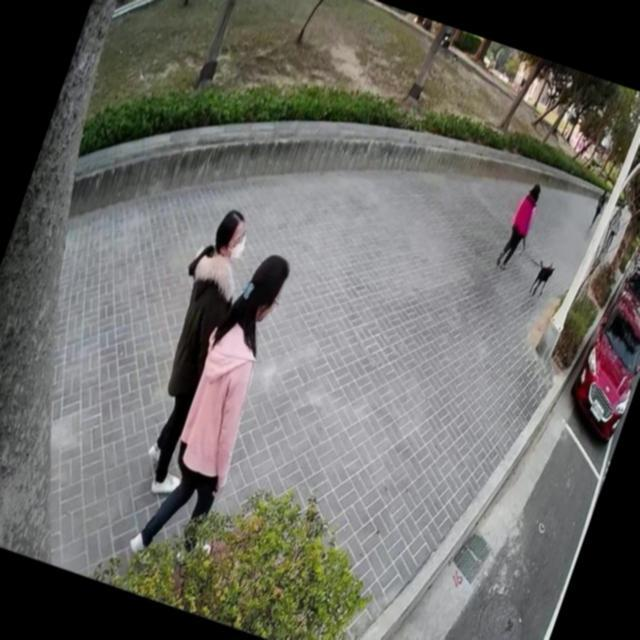person: (118, 233, 312, 588), (114, 192, 272, 498), (491, 172, 549, 278), (597, 204, 627, 258), (584, 180, 612, 233)
